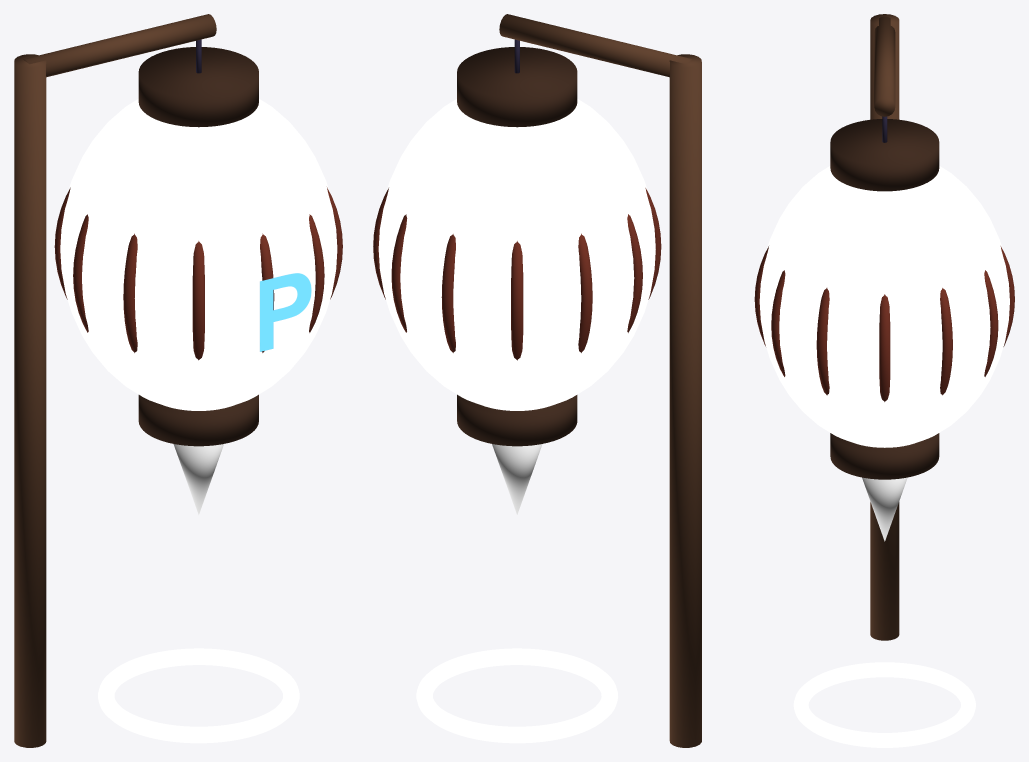
Rendered from pin-b.glb.
3 renders of one model, left to right at view 1: azimuth 30°, elevation 25°; view 2: azimuth 150°, elevation 25°; view 3: azimuth 270°, elevation 25°, orthographic. The views are drawn at different scales.
Parts seen in each view (by area): view 1: Sphere.017, Cylinder.097, Cylinder.100, Torus.079, Cylinder.101, Cylinder.098, Plane.034, Cone.025, Torus.075, Torus.074, Torus.078, Torus.077 (+1 smaller); view 2: Sphere.017, Cylinder.097, Cylinder.100, Torus.079, Cylinder.101, Cylinder.098, Cone.025, Torus.077, Torus.078, Torus.076, Torus.074, Torus.075 (+1 smaller); view 3: Sphere.017, Cylinder.100, Torus.079, Cylinder.097, Cylinder.101, Cylinder.098, Cone.025, Torus.073, Torus.078, Torus.074, Torus.076, Torus.077 (+1 smaller).
Boxes of the visible parts, box(x1,y1,x2,y2) form: Sphere.017: box(60, 99, 337, 410); Cylinder.097: box(14, 54, 46, 747); Cylinder.100: box(138, 47, 258, 127); Torus.079: box(98, 648, 299, 743); Cylinder.101: box(138, 394, 258, 446); Cylinder.098: box(23, 14, 216, 77); Plane.034: box(260, 273, 311, 351); Cone.025: box(173, 444, 223, 514); Torus.075: box(192, 241, 204, 360); Torus.074: box(123, 233, 137, 352); Torus.078: box(54, 187, 342, 299); Torus.077: box(309, 214, 324, 332); Sphere.017: box(378, 99, 655, 410); Cylinder.097: box(669, 54, 701, 747); Cylinder.100: box(457, 47, 577, 127); Torus.079: box(416, 648, 617, 743); Cylinder.101: box(457, 394, 577, 446); Cylinder.098: box(499, 14, 692, 77); Cone.025: box(492, 444, 542, 514); Torus.077: box(511, 241, 523, 360); Torus.078: box(578, 233, 592, 352); Torus.076: box(441, 234, 455, 352); Torus.074: box(373, 188, 661, 299); Torus.075: box(391, 214, 407, 332); Sphere.017: box(759, 166, 1009, 447); Cylinder.100: box(830, 119, 939, 191); Torus.079: box(793, 662, 975, 747); Cylinder.097: box(870, 14, 899, 640); Cylinder.101: box(830, 433, 939, 479); Cylinder.098: box(874, 16, 895, 116); Cone.025: box(862, 477, 907, 541); Torus.073: box(879, 294, 890, 401); Torus.078: box(816, 288, 829, 395); Torus.074: box(940, 288, 952, 395); Torus.076: box(754, 246, 1014, 346); Torus.077: box(771, 270, 785, 376).
Bounding box in the file's own units: 0.766 × 1.63 × 0.681.
8 materials, 1 textured.
